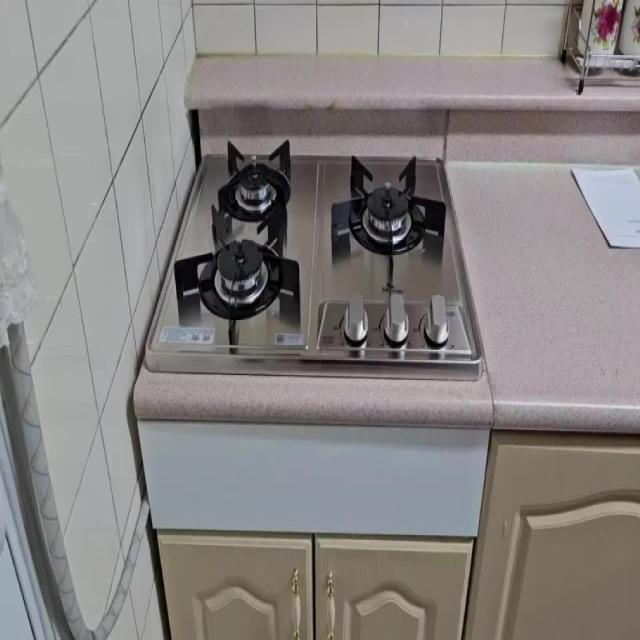knob_OFF: (160, 219, 325, 362), (325, 155, 460, 273), (213, 123, 312, 238)
